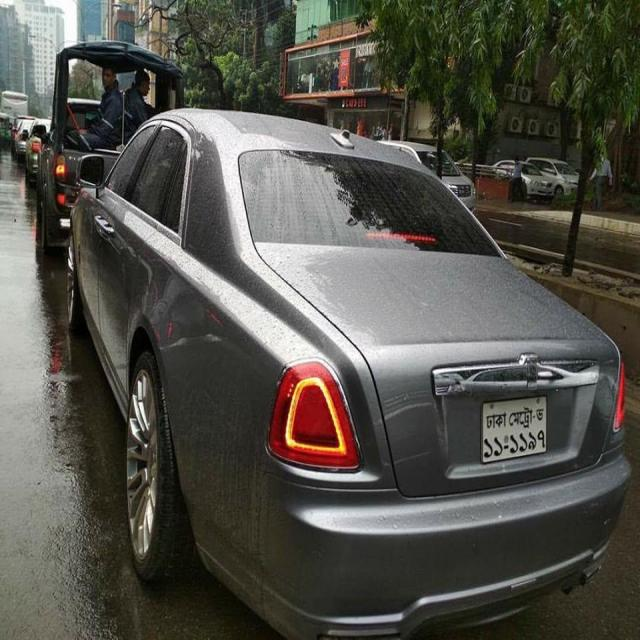numberplate: (480, 394, 548, 464)
